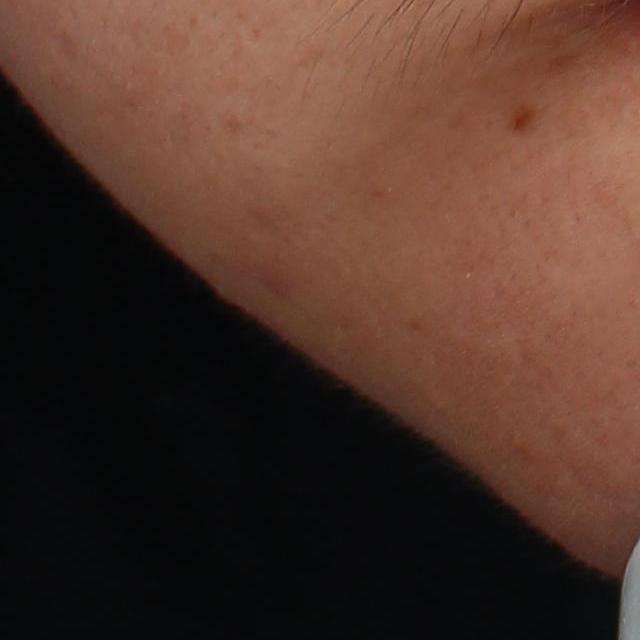nevus: (504, 101, 541, 139)
